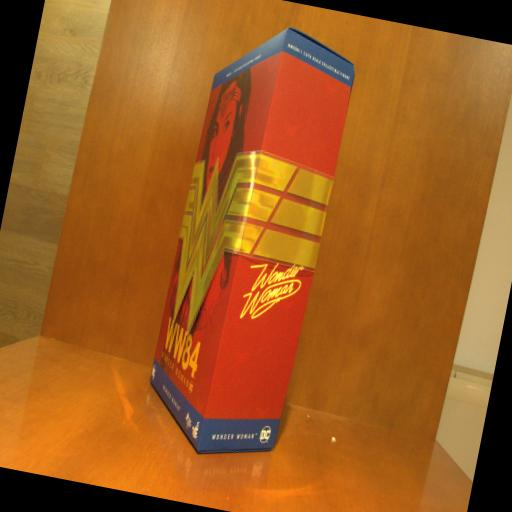WonderWoman: (136, 14, 364, 472)
